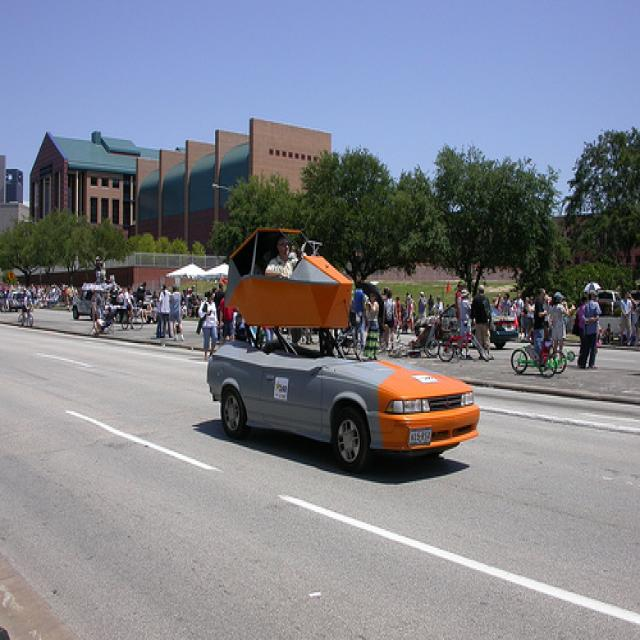Car: (211, 322, 482, 465)
